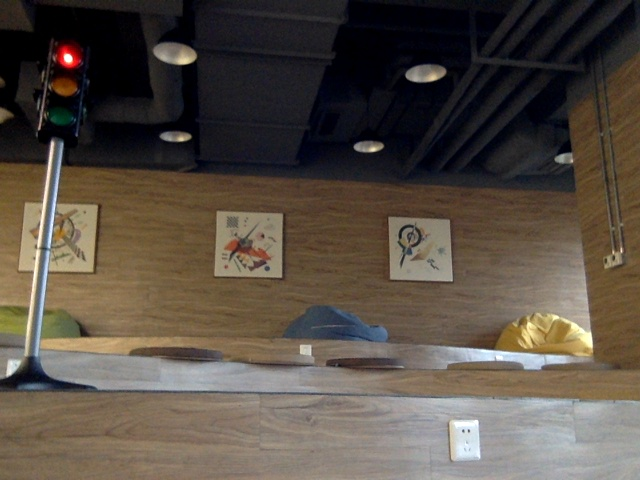red: (46, 47, 84, 128)
